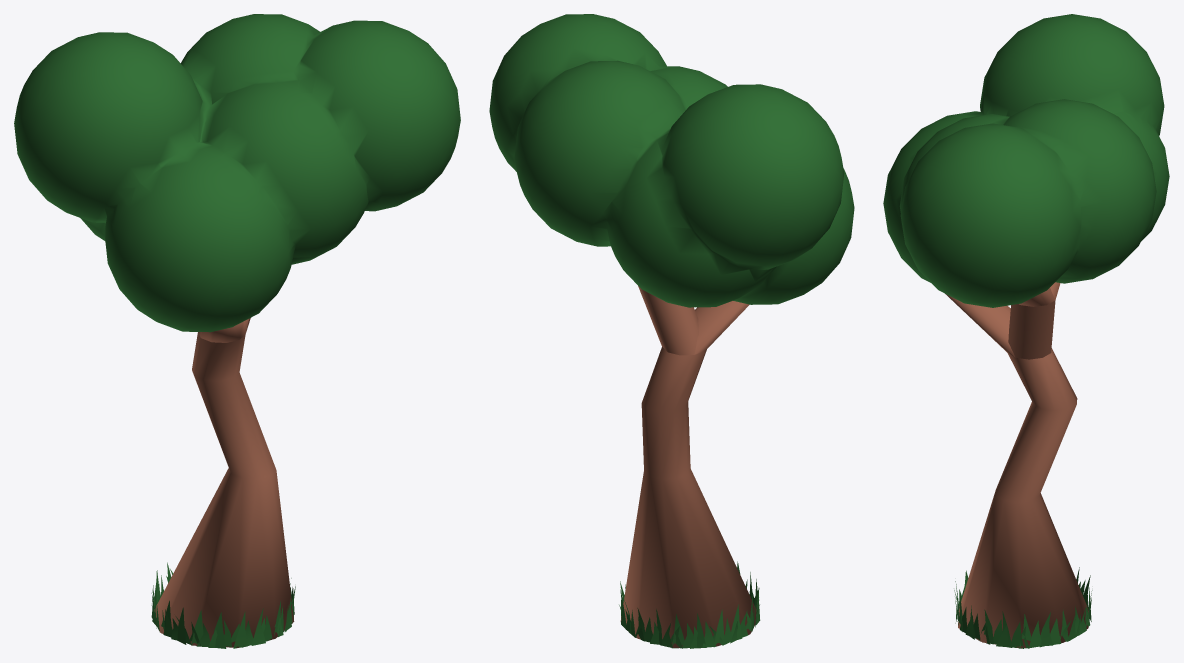
File: tree3.fbx
3 renders of one model, left to right at view 1: azimuth 30°, elevation 25°; view 2: azimuth 150°, elevation 25°; view 3: azimuth 270°, elevation 25°, orthographic. The views are drawn at different scales.
Parts seen in each view (by area): view 1: Icosphere.004, trunk.002, grass.002; view 2: Icosphere.004, trunk.002, grass.002; view 3: Icosphere.004, trunk.002, grass.002.
Part boxes in pixels (x1,y1,x2,y2): Icosphere.004: [14, 14, 460, 332]; trunk.002: [154, 318, 294, 647]; grass.002: [151, 562, 295, 648]; Icosphere.004: [489, 14, 854, 307]; trunk.002: [620, 286, 756, 647]; grass.002: [619, 561, 760, 648]; Icosphere.004: [883, 14, 1169, 307]; trunk.002: [945, 282, 1088, 648]; grass.002: [954, 567, 1092, 648].
Size of the model in its own units: 549 by 802 by 374.
